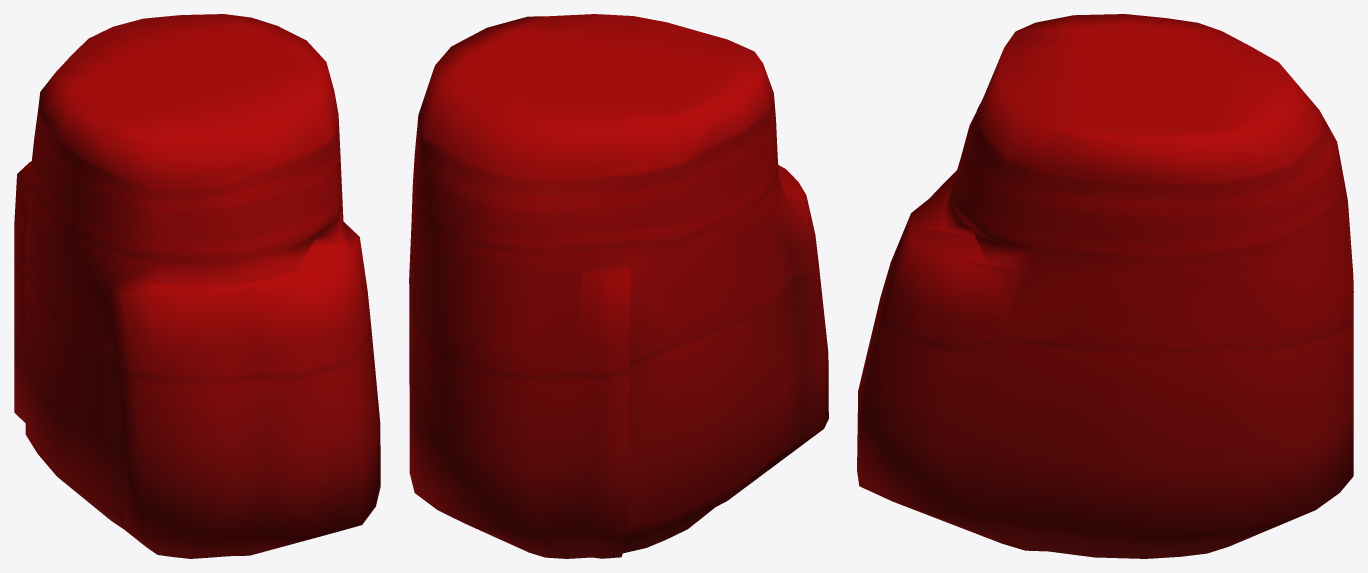
File: geology-landforms-sandstonemesalarge_v1.fbx
The picture shows the model from 3 angles, left to right: view 1: azimuth 30°, elevation 25°; view 2: azimuth 150°, elevation 25°; view 3: azimuth 270°, elevation 25°; orthographic projection. The views are drawn at different scales.
Visible parts, largest first — view 1: SandStoneMesaLarge_v1; view 2: SandStoneMesaLarge_v1; view 3: SandStoneMesaLarge_v1.
Boxes of the visible parts, box(x1,y1,x2,y2) form: SandStoneMesaLarge_v1: box(14, 14, 380, 558); SandStoneMesaLarge_v1: box(409, 14, 828, 558); SandStoneMesaLarge_v1: box(857, 14, 1353, 558).
Bounding box in the file's own units: 26.51 × 38.47 × 38.87.
